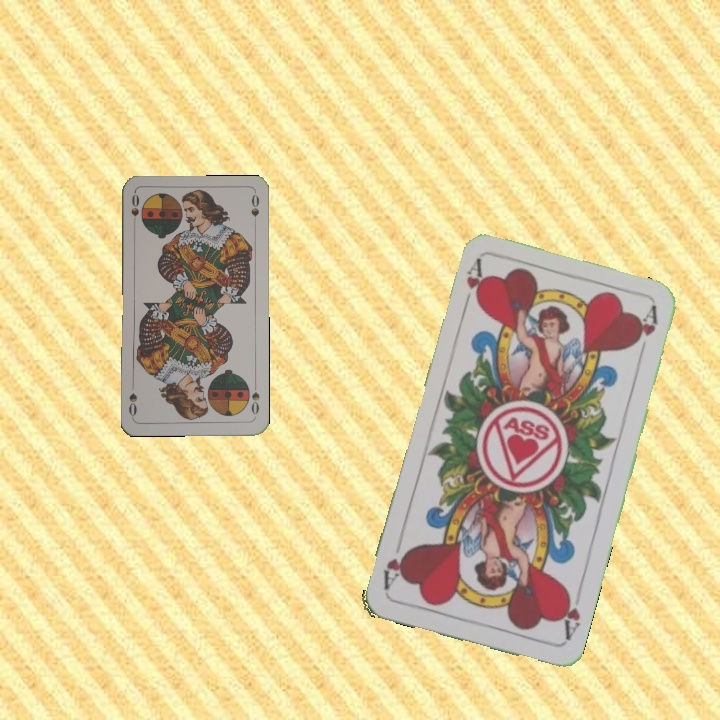HA: (555, 586, 583, 644), (458, 256, 486, 314)
SO: (247, 379, 262, 419), (127, 191, 142, 231)
